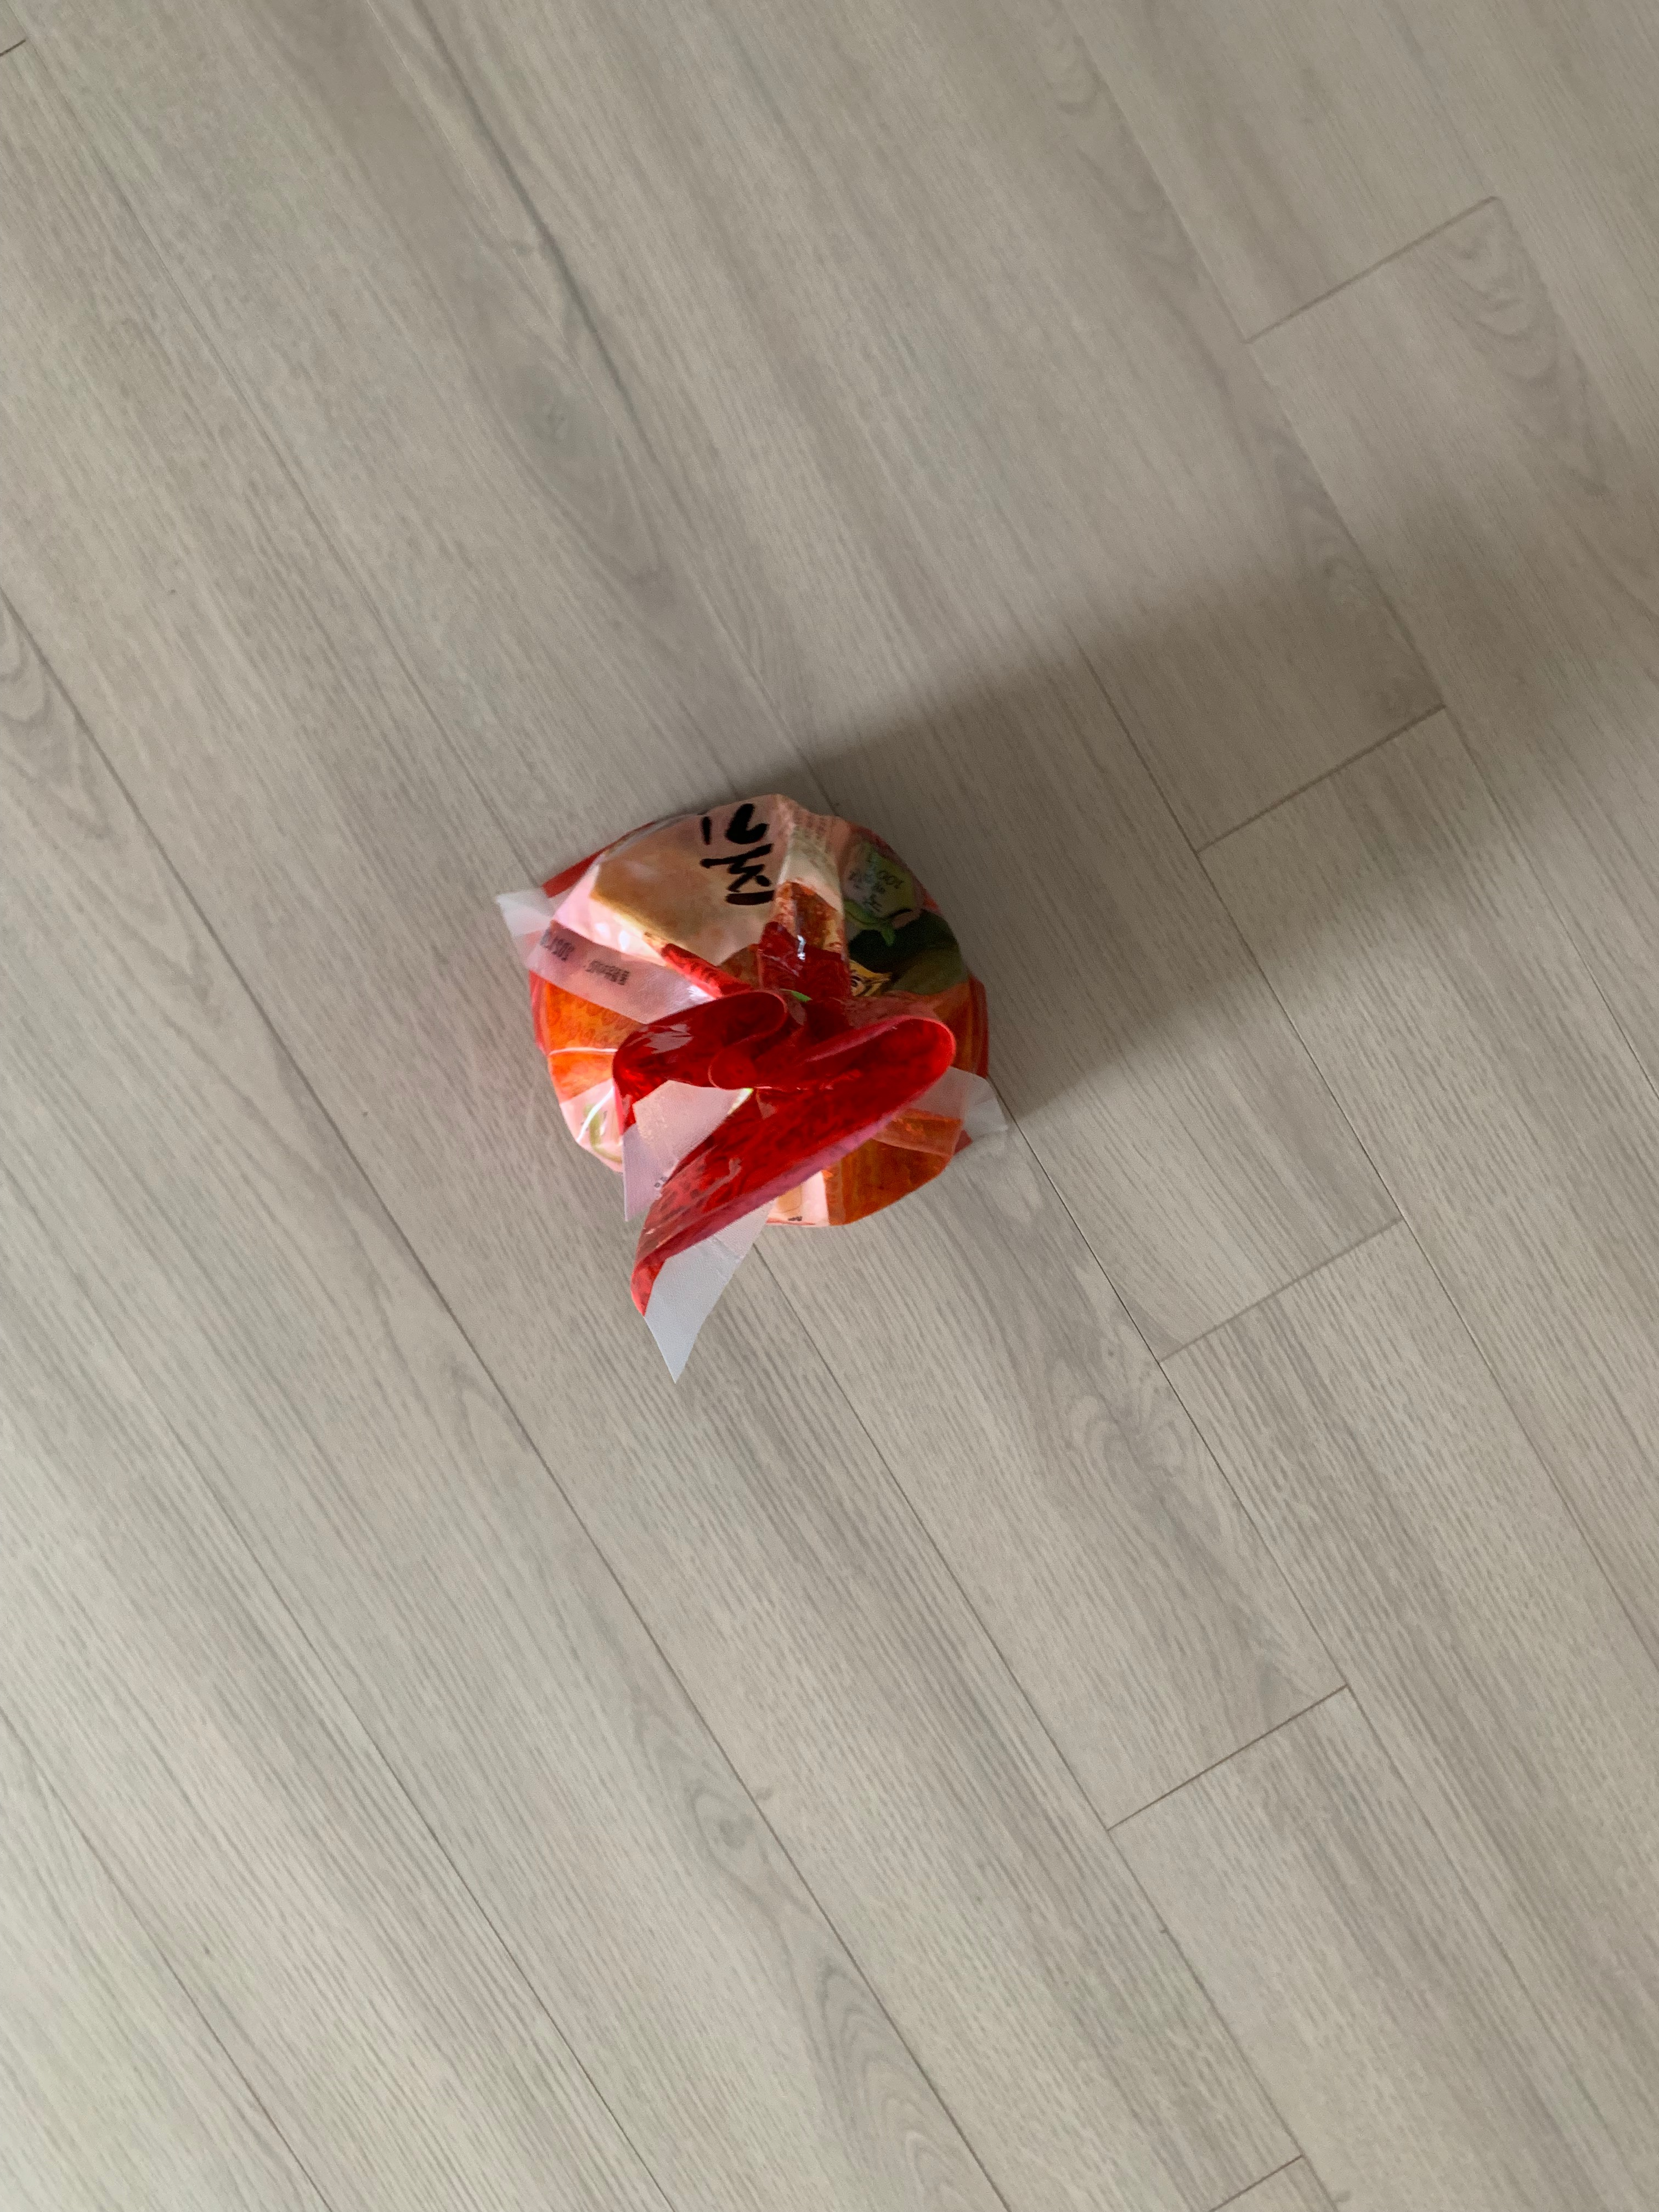kimchi: (528, 792, 993, 1254)
